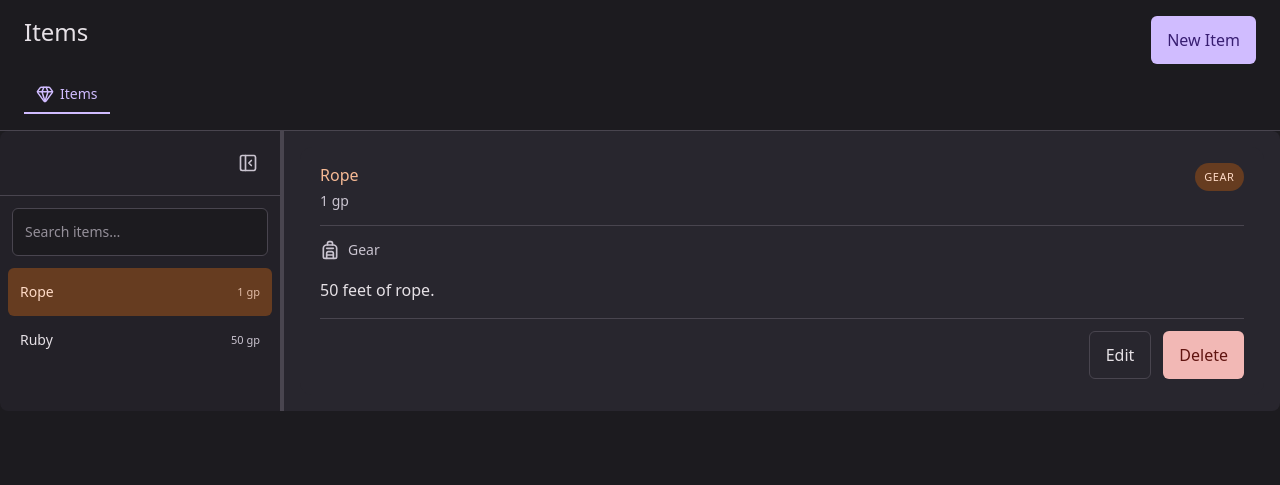
ItemBrowserPage › filtering to no matches shows a filtered-empty state
expect the button "Ruby 50 gp" is shown: met, box [8,316,272,364]
Type "zzz-no-match" into the search field.
click(140, 232); type("zzz-no-match")  # box [12,208,268,256]
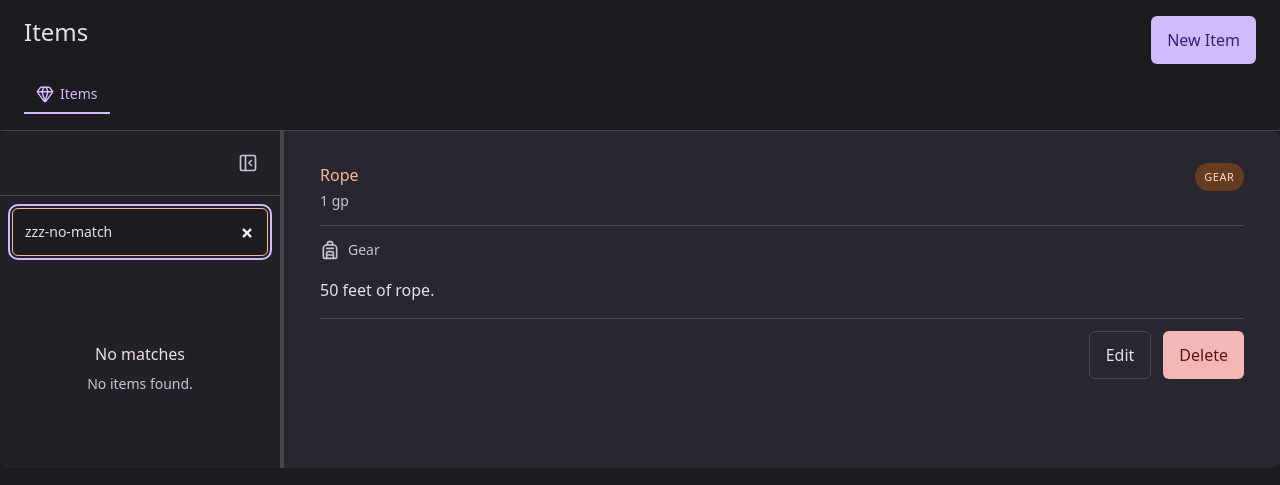
expect the text "No items found." is shown: met, box [87,374,193,394]
